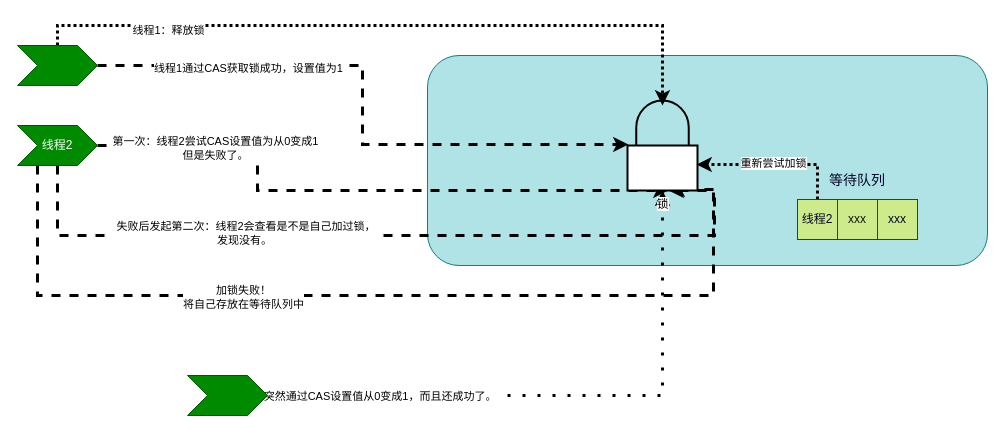
Some shapes in this 1005 by 433 pixel diagram are drawn without their labels. The centre of each missing label's shape, as x and y in pixels:
线程1: (57,65)
线程3: (227,395)
